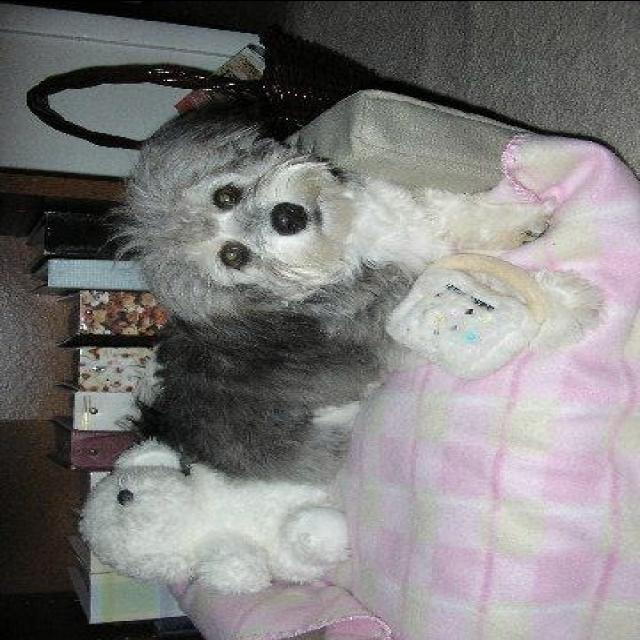shih_tzu: (108, 111, 598, 493)
